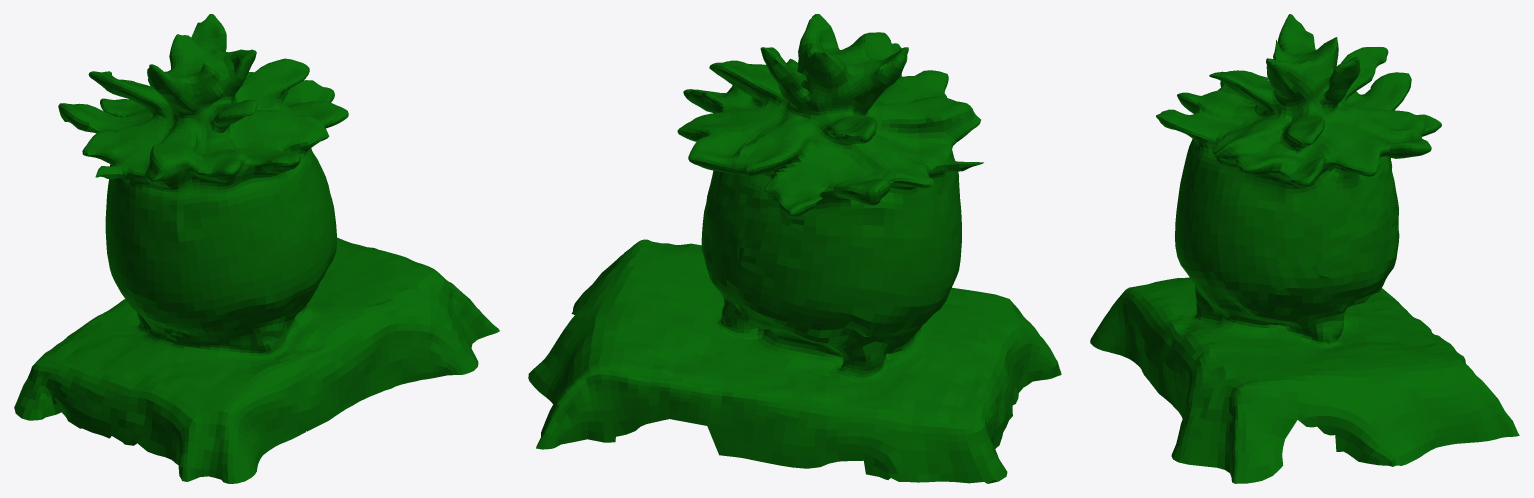
File: Plant_H_MIDs.fbx
The picture shows the model from 3 angles, left to right: view 1: azimuth 30°, elevation 25°; view 2: azimuth 150°, elevation 25°; view 3: azimuth 270°, elevation 25°; orthographic projection. The views are drawn at different scales.
Parts seen in each view (by area): view 1: Plant_Model; view 2: Plant_Model; view 3: Plant_Model.
Part boxes in pixels (x1,y1,x2,y2): Plant_Model: (14, 14, 499, 483); Plant_Model: (528, 14, 1061, 483); Plant_Model: (1090, 14, 1519, 483).
Bounding box in the file's own units: 0.0521 × 0.0399 × 0.046.
